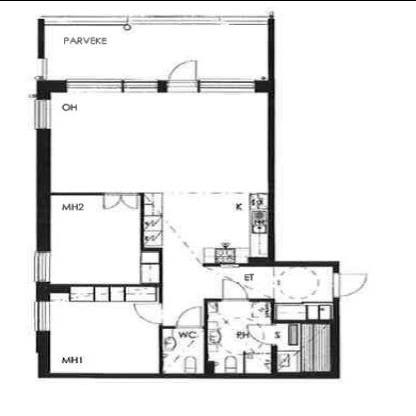door: (164, 57, 204, 95), (330, 268, 370, 298), (172, 300, 203, 330), (246, 320, 279, 346), (133, 299, 163, 327), (220, 275, 252, 301)
window: (64, 72, 161, 94), (195, 74, 259, 98), (30, 295, 56, 335), (31, 93, 55, 131), (31, 247, 55, 283)
